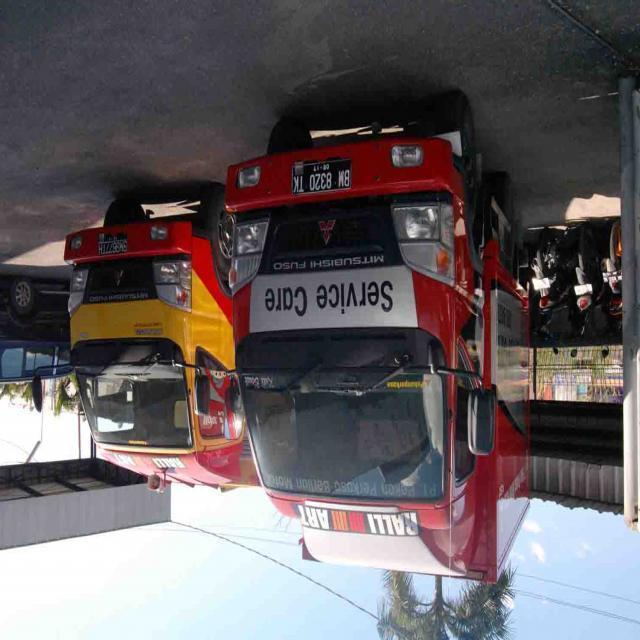truck: (228, 112, 530, 572), (34, 191, 257, 503)
